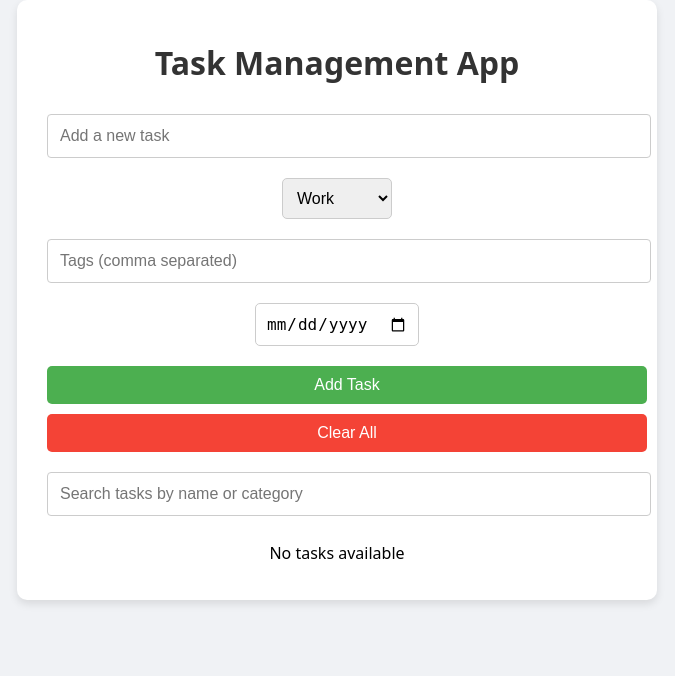
Test: deletes a task
Type "Task to be deleted" into the field with placeholder "Add a new task" at (349, 136), box [47,114,651,158]
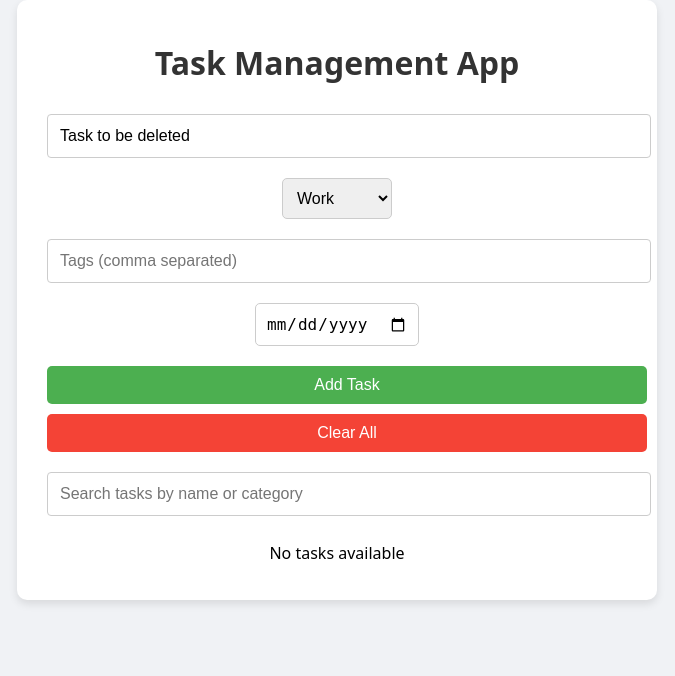
Click the button "Add Task" at (347, 385), box [47,366,647,404]
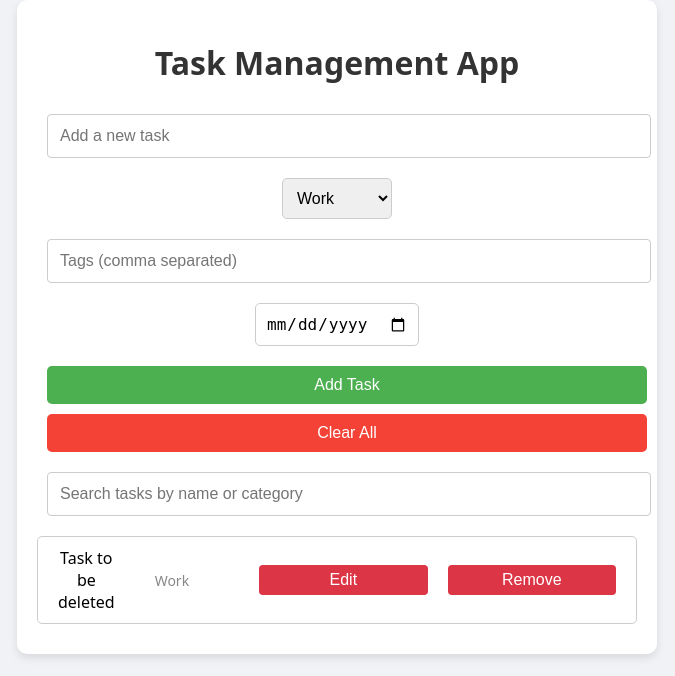
Click the button "Remove" at (532, 580), box [448,565,616,595]
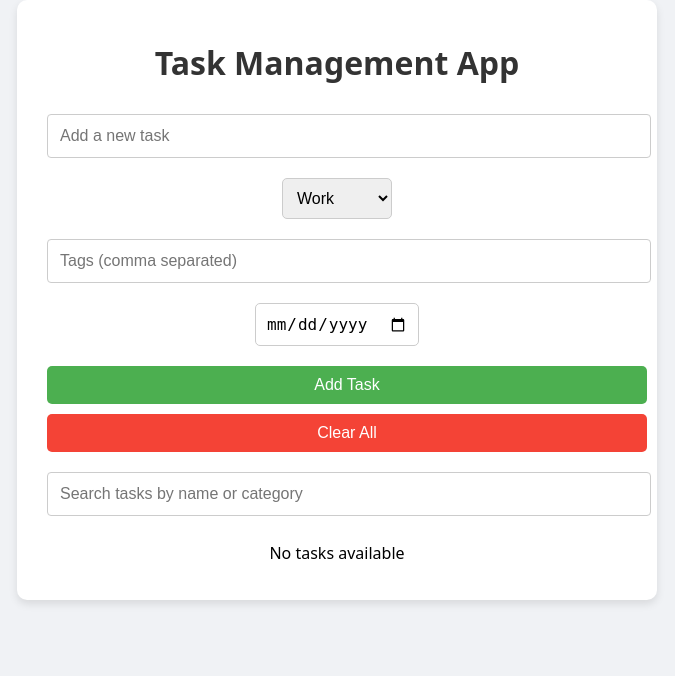
Check: the text "Task to be deleted" is gone
